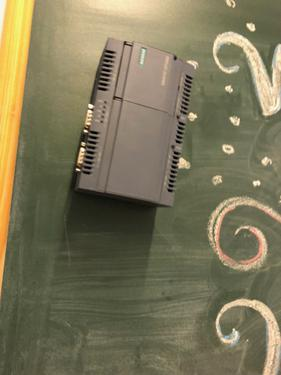device: (74, 37, 195, 208)
